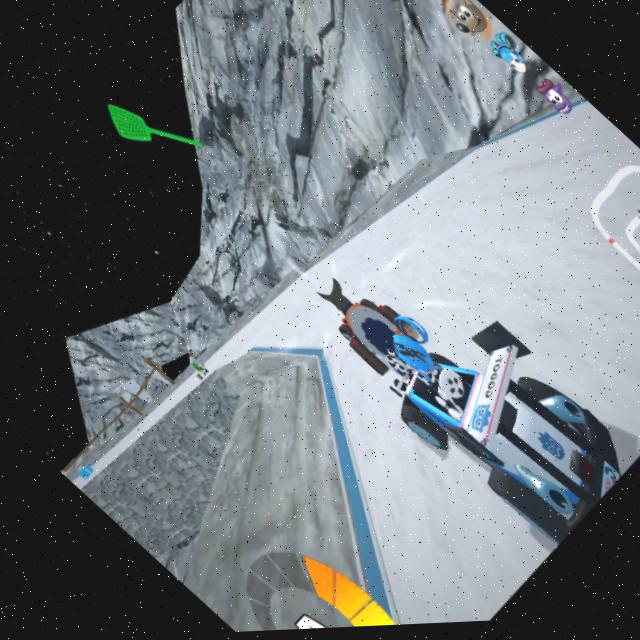bonus: (62, 457, 89, 483)
enemy_kart: (356, 282, 640, 561), (177, 354, 208, 384)
player_kart: (292, 257, 422, 385)
track: (334, 79, 587, 323), (207, 256, 330, 373)
